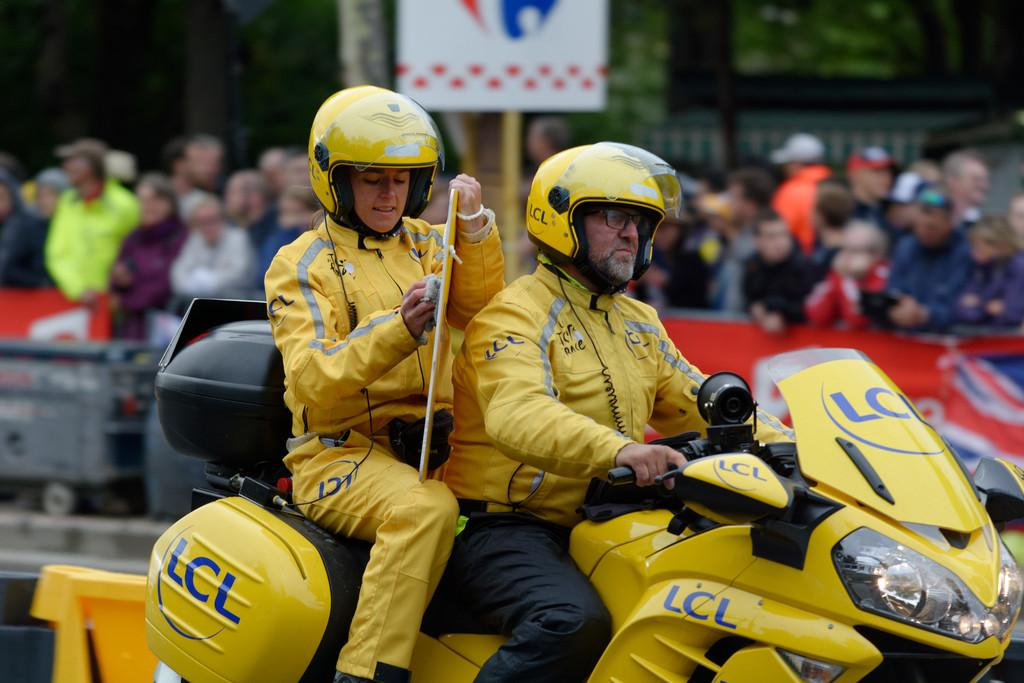helmet: (525, 141, 684, 282), (308, 85, 446, 232)
nohelmet: (845, 143, 905, 205), (910, 180, 958, 251), (941, 148, 993, 210), (174, 130, 226, 191), (53, 136, 109, 192), (767, 131, 826, 184), (220, 168, 272, 227), (966, 211, 1019, 267), (725, 166, 774, 225), (134, 170, 180, 231), (177, 188, 223, 246), (809, 183, 855, 239), (750, 210, 795, 267)
